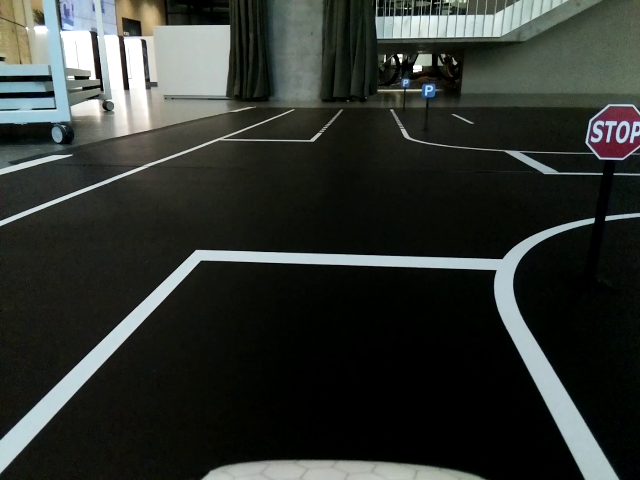stop: (588, 102, 640, 163)
